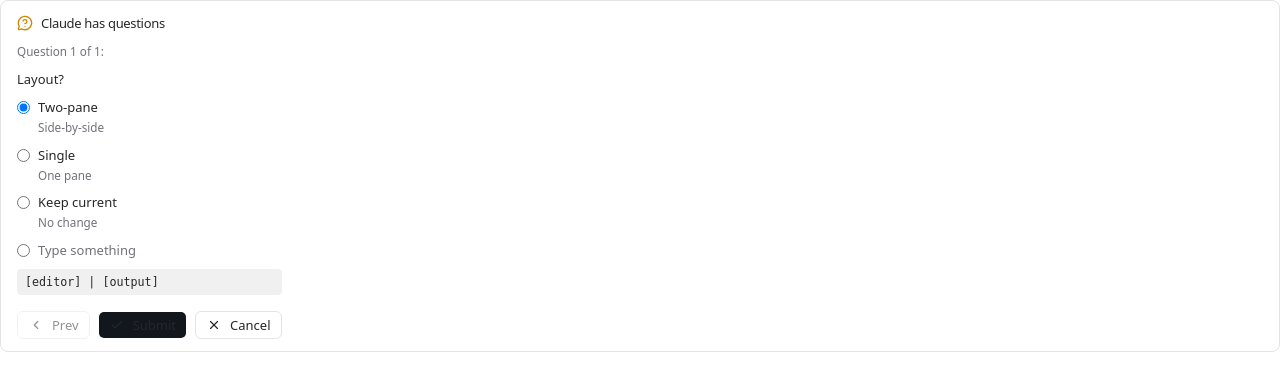
ApprovalCard — AskUserQuestion form (parsed from content_preview) › preselects the first option and previews it, then follows the selection
Expected: the radio button labelled "Two-pane Side-by-side" is checked, top-left (17, 101), bottom-right (30, 114)
Expected: the button with test id "ask-user-question-submit" is enabled, top-left (98, 311), bottom-right (187, 339)
Click the radio button labelled "Single One pane".
click(24, 155)  # box top-left (17, 149), bottom-right (30, 162)
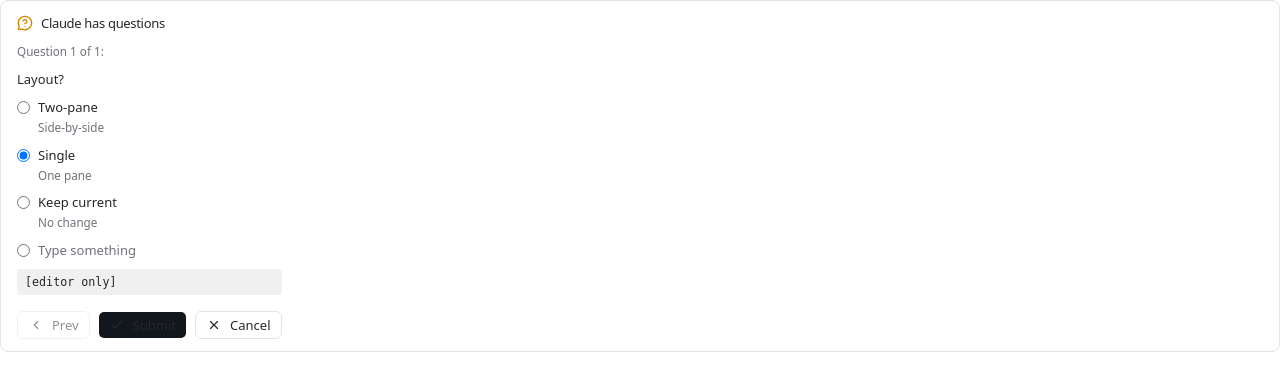
Expected: the text "[editor only]" is shown, top-left (17, 269), bottom-right (282, 295)
Click the radio button labelled "Keep current No change".
click(24, 203)  # box top-left (17, 196), bottom-right (30, 209)
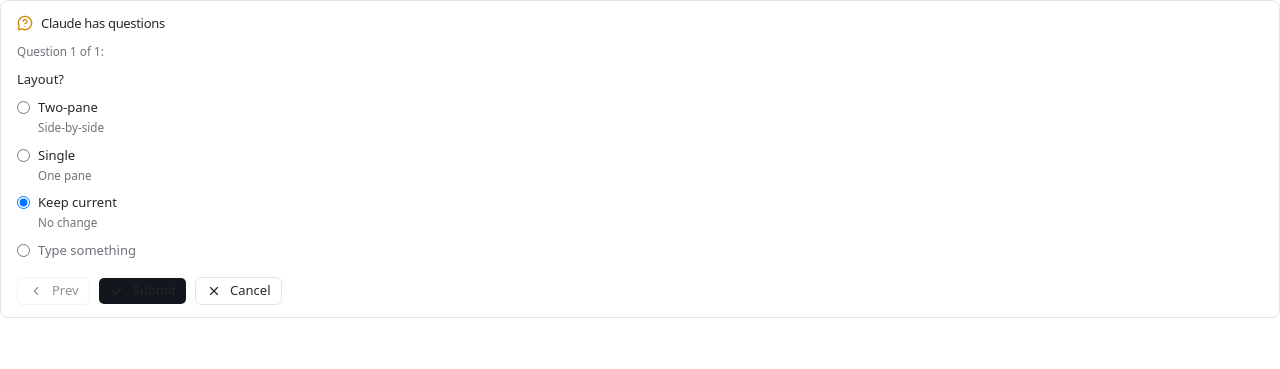
Expected: the element with test id "ask-user-question-previews" is gone
Click the radio button with test id "ask-user-question-custom-toggle".
click(24, 250)  # box top-left (17, 244), bottom-right (30, 257)
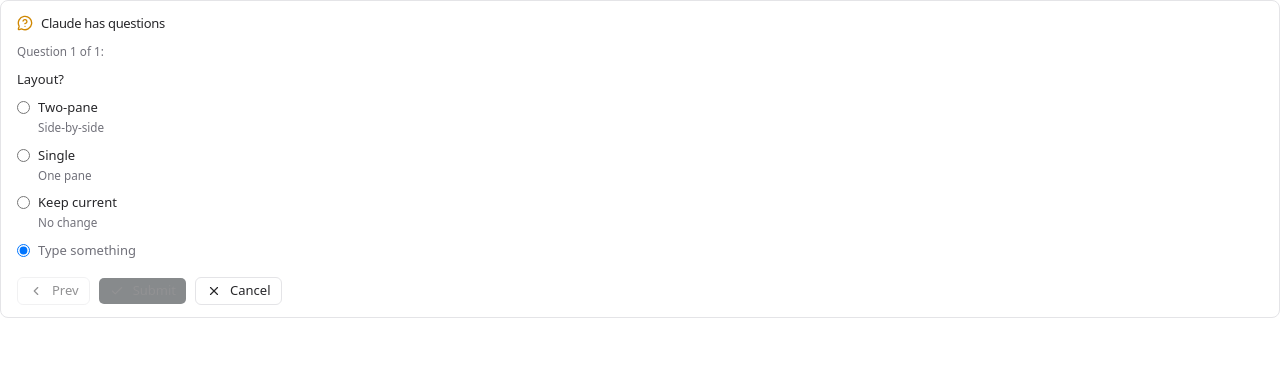
Expected: the button with test id "ask-user-question-submit" is disabled, top-left (98, 277), bottom-right (187, 305)
Type "A different layout" into the text box with test id "ask-user-question-custom-input".
click(160, 250); type("A different layout")  # box top-left (38, 240), bottom-right (282, 261)
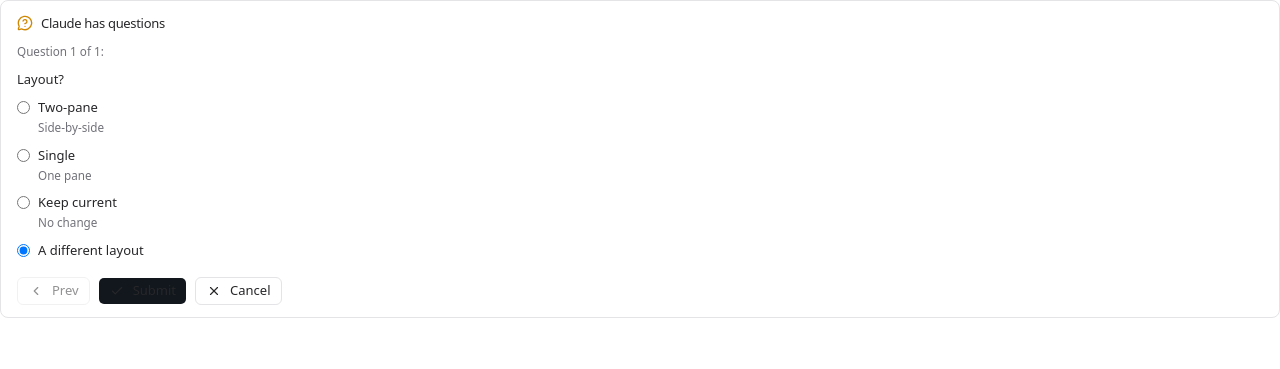
Expected: the button with test id "ask-user-question-submit" is enabled, top-left (98, 277), bottom-right (187, 305)
